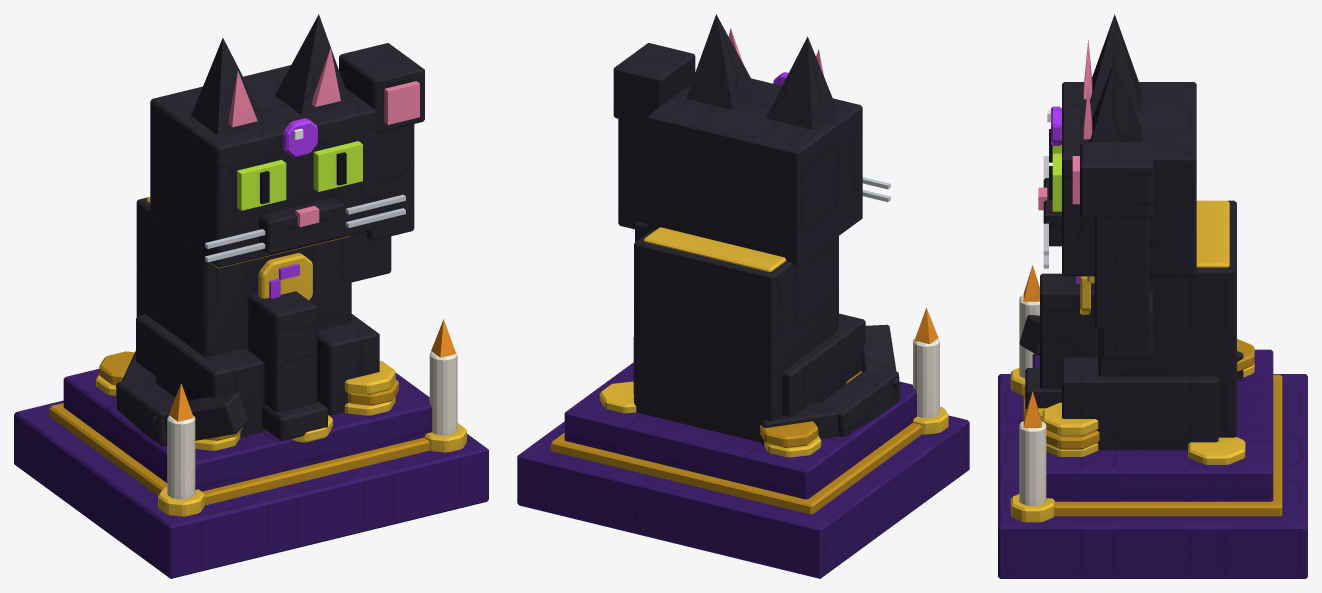
File: BlackCatIdol.fbx
3 renders of one model, left to right at view 1: azimuth 30°, elevation 25°; view 2: azimuth 150°, elevation 25°; view 3: azimuth 270°, elevation 25°, orthographic. The views are drawn at different scales.
Visible parts, largest first — view 1: Art_BlackCatIdol; view 2: Art_BlackCatIdol; view 3: Art_BlackCatIdol.
Part boxes in pixels (x1,y1,x2,y2): Art_BlackCatIdol: [14, 14, 488, 578]; Art_BlackCatIdol: [517, 14, 969, 578]; Art_BlackCatIdol: [998, 14, 1307, 578].
Size of the model in its own units: 2 by 2.82 by 1.7.
